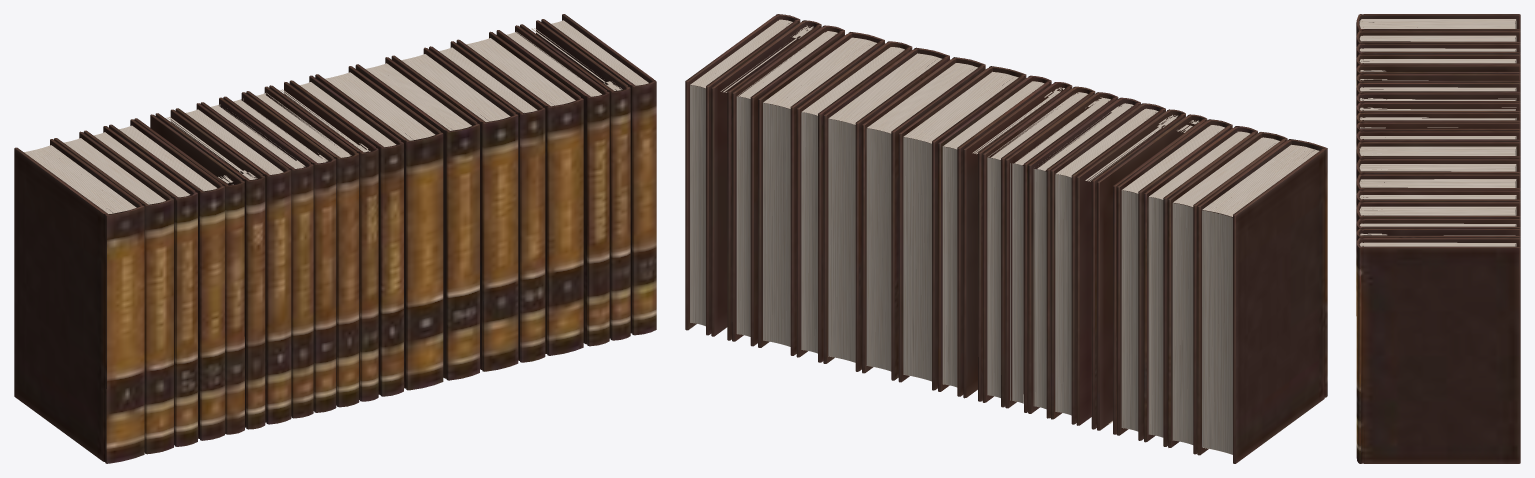
The model's file is ph_book_encyclopedia_set_01.glb.
The picture shows the model from 3 angles, left to right: view 1: azimuth 30°, elevation 25°; view 2: azimuth 150°, elevation 25°; view 3: azimuth 270°, elevation 25°; orthographic projection. The views are drawn at different scales.
Visible parts, largest first — view 1: book_encyclopedia_set_01_book01; view 2: book_encyclopedia_set_01_book01; view 3: book_encyclopedia_set_01_book01.
Boxes of the visible parts, x1,y1,x2,y2 form: book_encyclopedia_set_01_book01: (14,14,656,463); book_encyclopedia_set_01_book01: (685,14,1327,463); book_encyclopedia_set_01_book01: (1356,14,1520,463).
Size of the model in its own units: 0.5513 by 0.2374 by 0.1636.
Materials: 2 (2 with a texture image).
